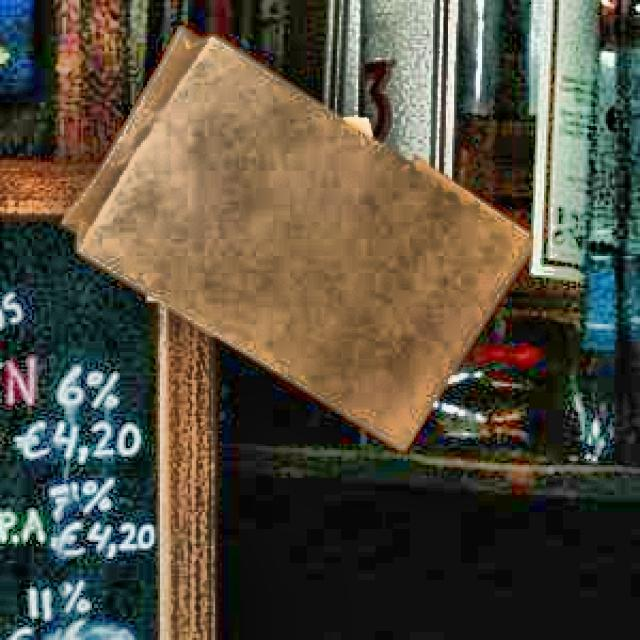Paper-bag: (43, 20, 534, 460)
